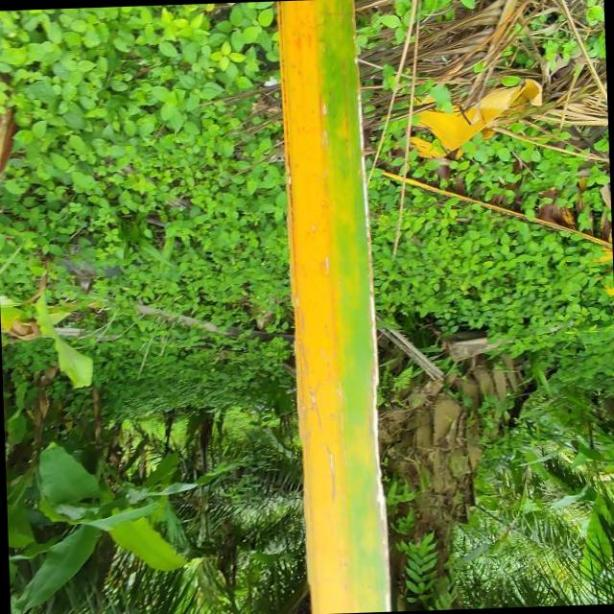Megnesium: (276, 1, 393, 614)
